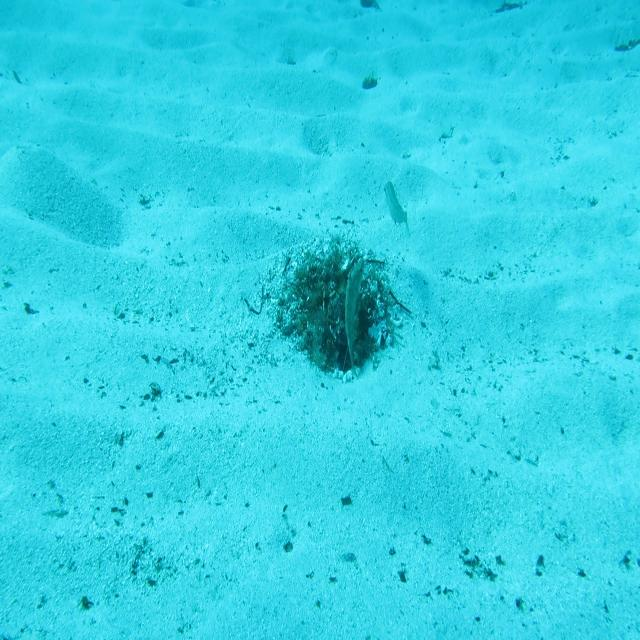H_UP: (344, 254, 366, 388)
female: (382, 178, 412, 240)
nest: (278, 236, 405, 381)
